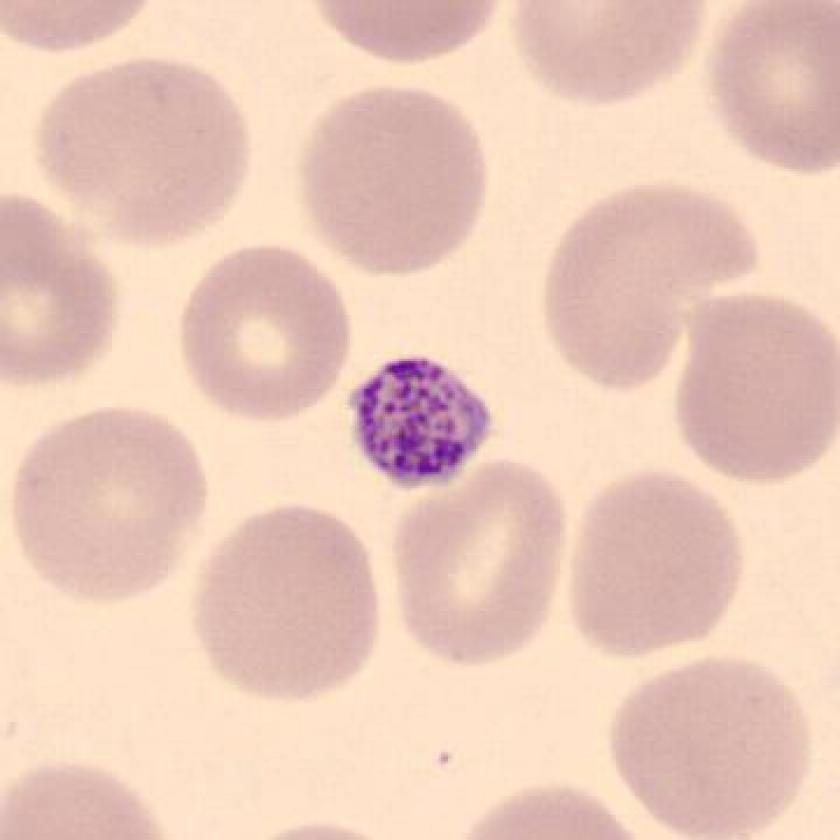platelets: (339, 344, 505, 499)
